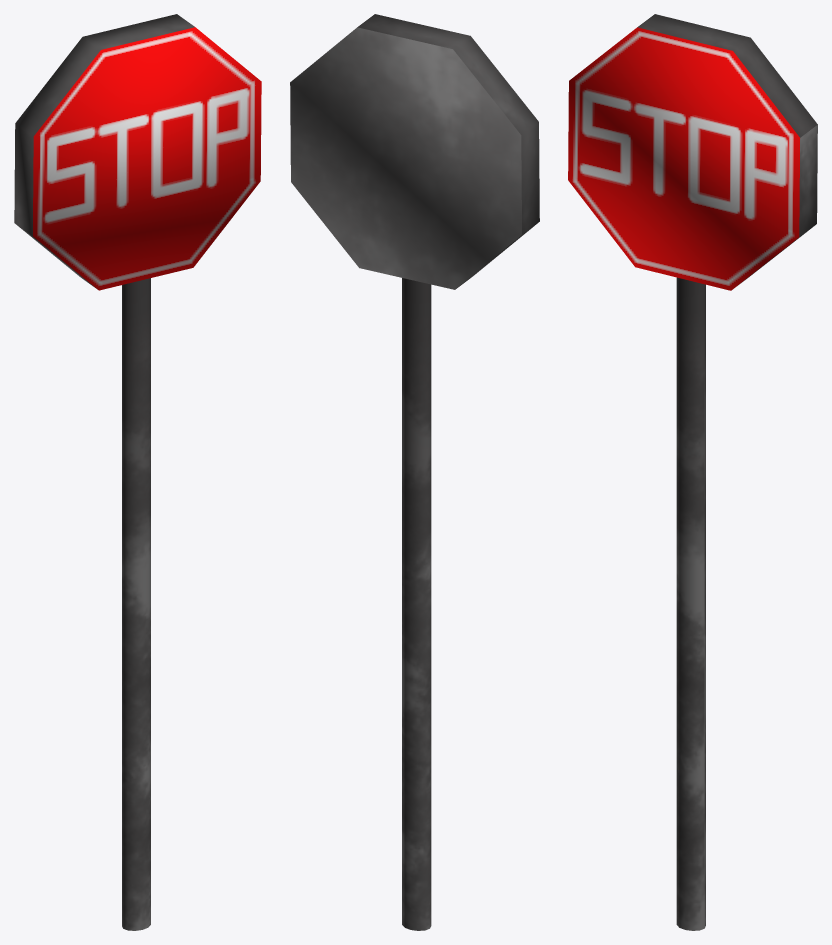
The model's file is PlacaPare.fbx.
3 renders of one model, left to right at view 1: azimuth 30°, elevation 25°; view 2: azimuth 150°, elevation 25°; view 3: azimuth 330°, elevation 25°, orthographic.
Parts seen in each view (by area): view 1: StopSign; view 2: StopSign; view 3: StopSign.
Part boxes in pixels (x1,y1,x2,y2): StopSign: [14, 14, 261, 930]; StopSign: [290, 14, 539, 930]; StopSign: [568, 14, 817, 930].
Bounding box in the file's own units: 139 × 516 × 20.56.
